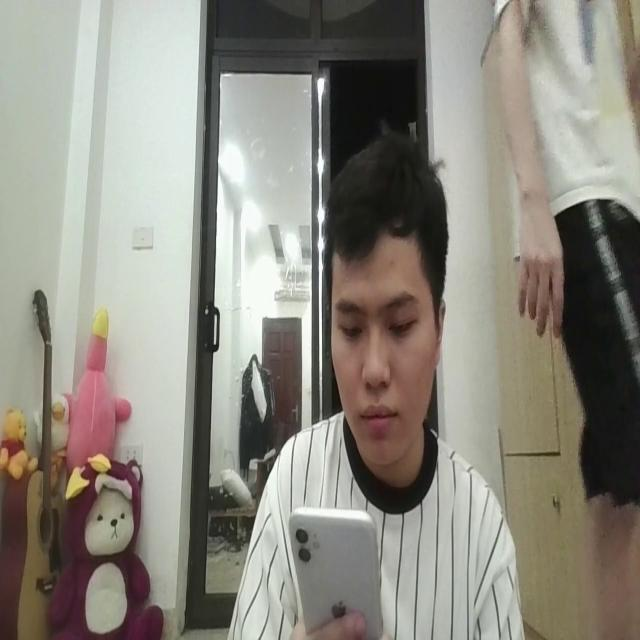extra_person: (499, 0, 640, 640)
phone: (287, 497, 387, 640)
student: (220, 123, 525, 640)
